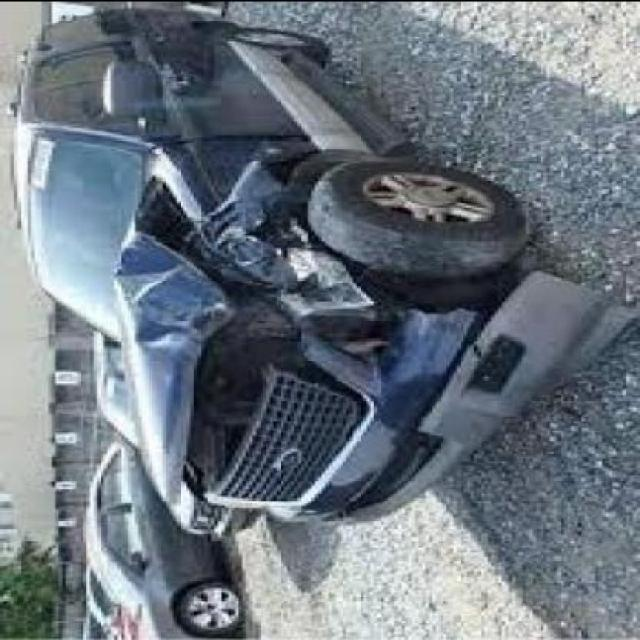damage: (107, 157, 638, 504)
